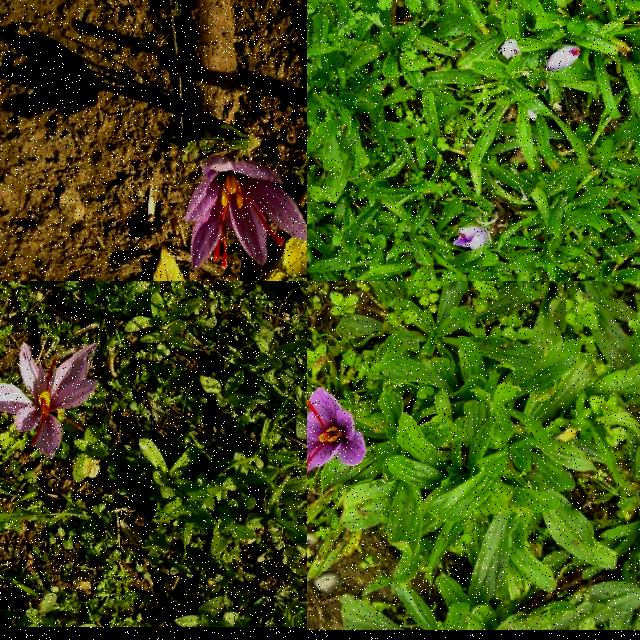flower: (185, 160, 307, 270), (0, 342, 101, 459), (307, 388, 367, 490), (544, 46, 580, 72), (454, 228, 490, 250), (500, 40, 522, 60)
